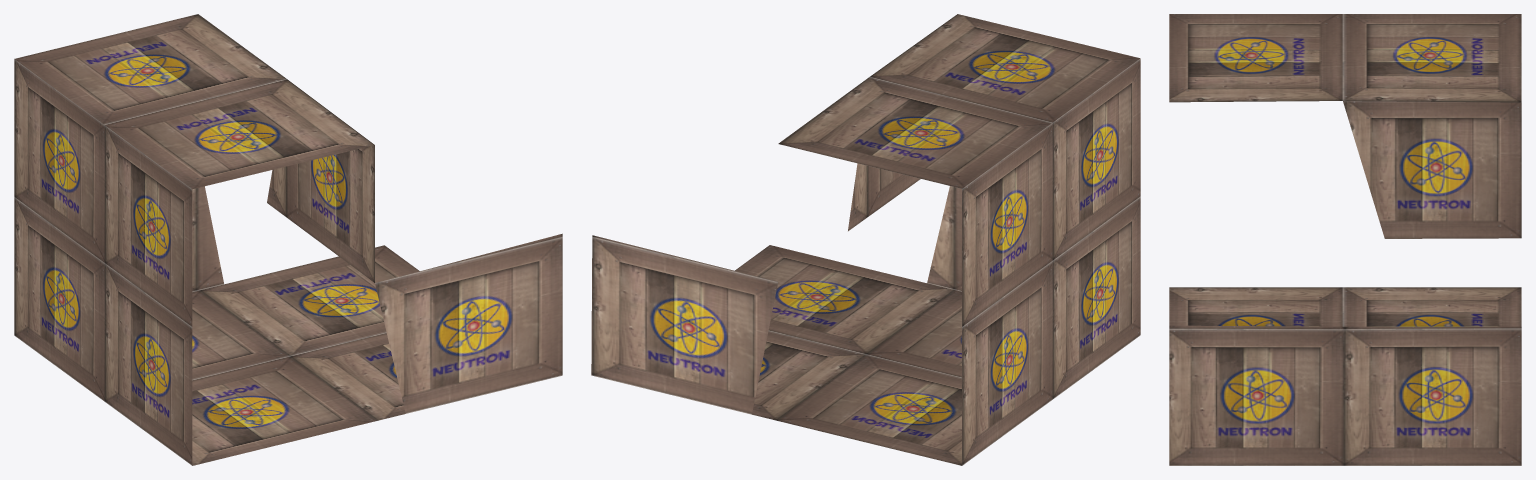
The model's file is crates.glb.
3 renders of one model, left to right at view 1: azimuth 30°, elevation 25°; view 2: azimuth 150°, elevation 25°; view 3: azimuth 270°, elevation 25°, orthographic.
Parts seen in each view (by area): view 1: crates; view 2: crates; view 3: crates.
Boxes of the visible parts, <box> form: crates: <box>14,14,562,465</box>; crates: <box>591,14,1140,465</box>; crates: <box>1169,14,1521,465</box>.
Bounding box in the file's own units: 887 × 636 × 739.
Materials: 2 (2 with a texture image).
